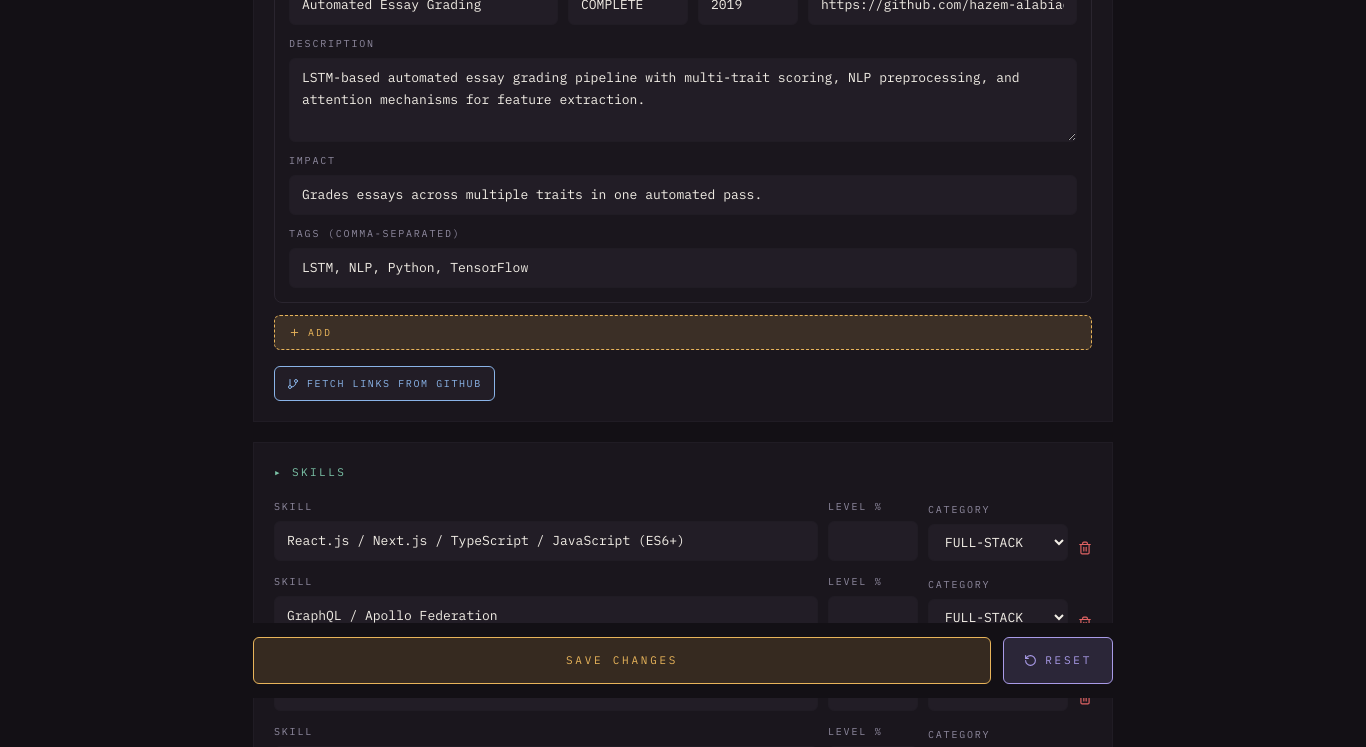
Test: CmsEditor › reports GitHub API failures
(page scrolled)
Click the button "FETCH LINKS FROM GITHUB".
click(384, 384)  # box [274,366,495,401]
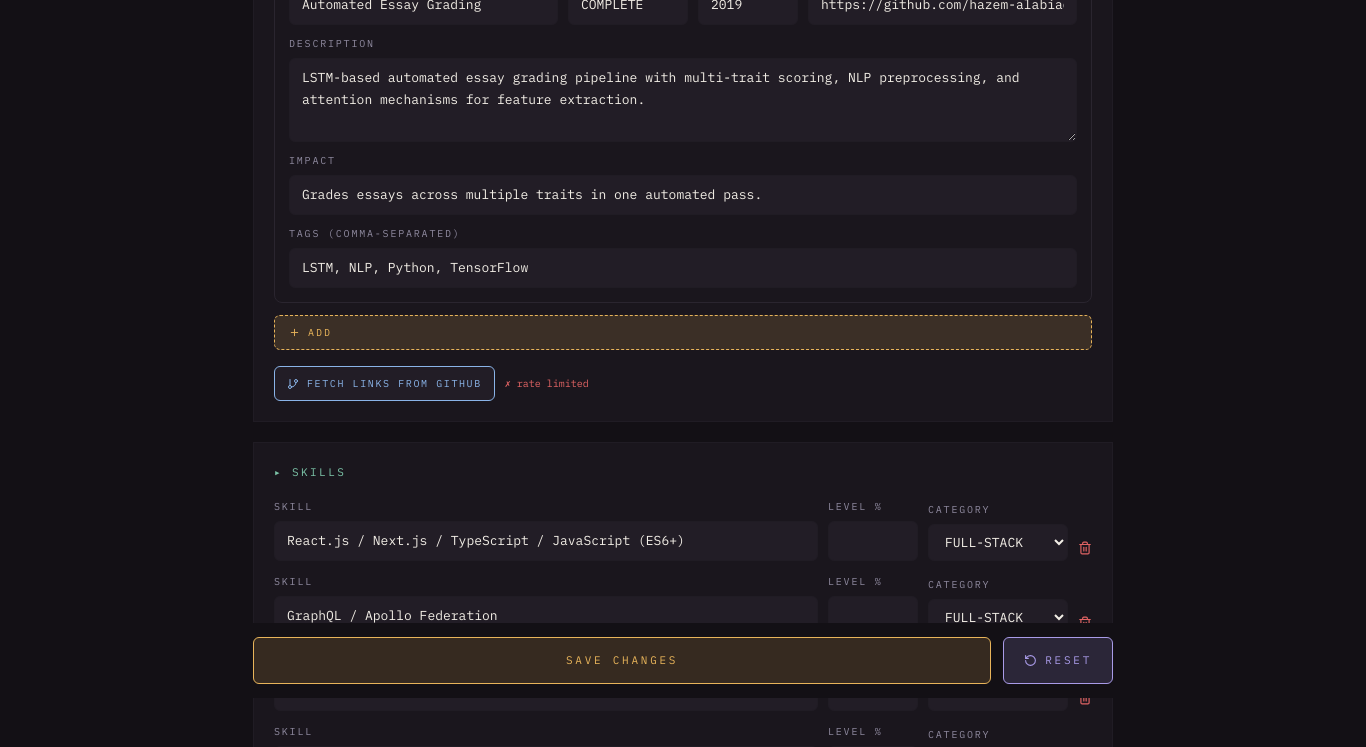
Now the text "✗ rate limited" is shown, box [505,375,589,392]
